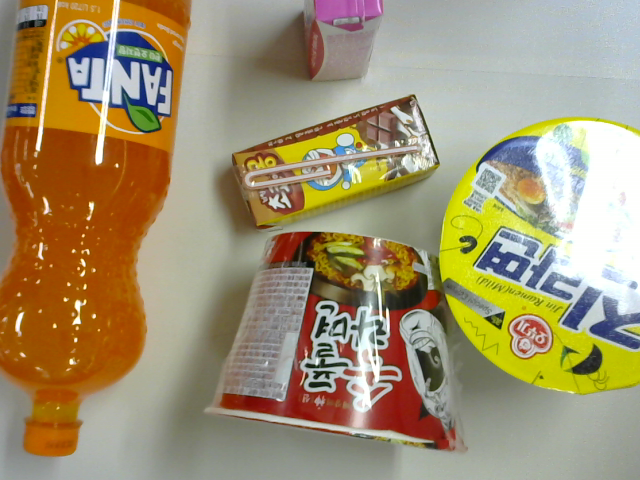Choco_E_Mong: (235, 93, 444, 221)
Hejangpul: (229, 227, 471, 441)
Hwanta_Orange_1.5L: (6, 1, 161, 445)
Jinlamyeon_Mild_Taste_Large_Cup: (416, 116, 640, 387)
Strawberry_E_Mong: (292, 1, 383, 71)
